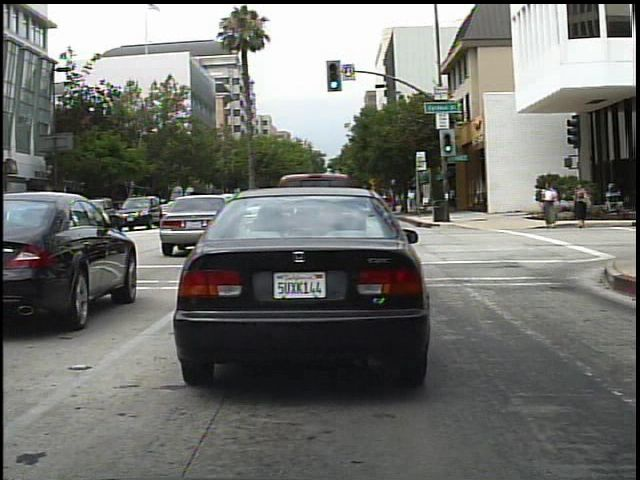person: (568, 176, 595, 230), (538, 176, 564, 231), (403, 186, 420, 217)
